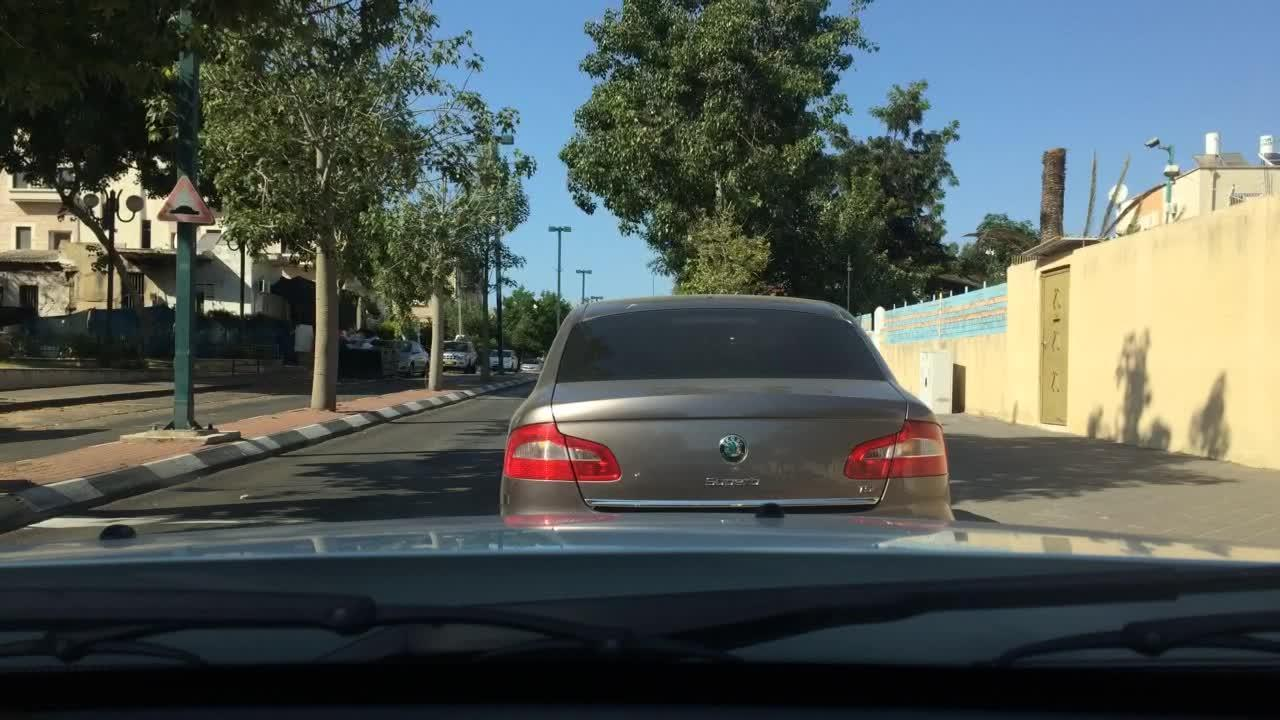skoda: (710, 429, 759, 469)
